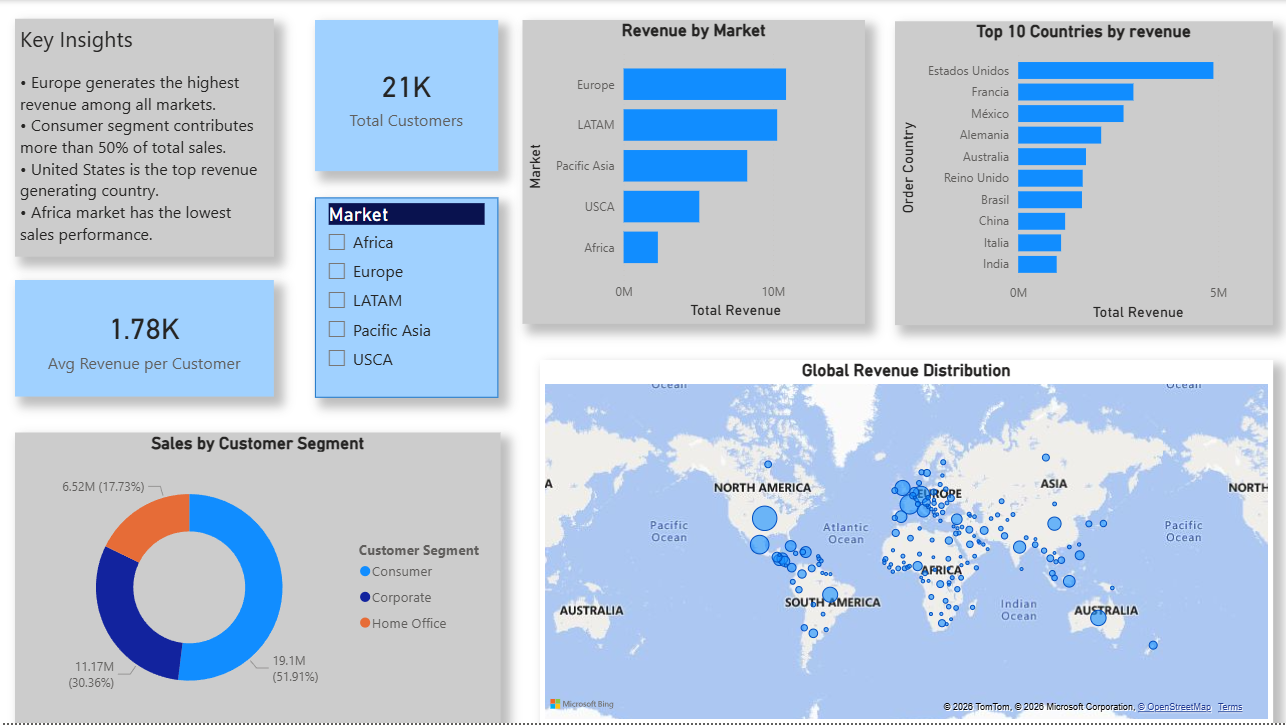

The dashboard page shown, as its layout file describes it:
{"tool":"powerbi","page":{"name":"Customer & Market Insights","canvas":[1280,720],"ordinal":2},"visuals":[{"type":"map","title":"Global Revenue Distribution","fields":{"Category":["DataCoSupplyChainDataset.Order Country"],"Size":["DataCoSupplyChainDataset.Total Revenue"]},"box":[538,358.2,729.2,362.1],"z":0},{"type":"barChart","title":" Revenue by Market","fields":{"Category":["DataCoSupplyChainDataset.Market"],"Y":["DataCoSupplyChainDataset.Total Revenue"]},"box":[520,19.9,340.8,302.3],"z":1},{"type":"donutChart","title":"Sales by Customer Segment","fields":{"Category":["DataCoSupplyChainDataset.Customer Segment"],"Y":["DataCoSupplyChainDataset.Total Revenue"]},"box":[15.3,430.9,483.2,289.4],"z":2},{"type":"barChart","title":"Top 10 Countries by revenue","fields":{"Category":["DataCoSupplyChainDataset.Order Country"],"Y":["DataCoSupplyChainDataset.Total Revenue"]},"box":[890.7,21.1,375.7,302.3],"z":3},{"type":"card","fields":{"Values":["DataCoSupplyChainDataset.Total Customers"]},"box":[313.6,20.4,182.3,150.4],"z":4},{"type":"slicer","fields":{"Values":["DataCoSupplyChainDataset.Market"]},"box":[313.6,196.3,182.3,198.9],"z":5},{"type":"textbox","box":[15.3,19.1,257.5,237.1],"z":6},{"type":"card","fields":{"Values":["DataCoSupplyChainDataset.Avg Revenue per Customer"]},"box":[15.3,279.2,257.5,116],"z":7}]}

Visuals, with their boxes in screenshot pixels (x1, y1, x2, y2), scaled from the page's 1280x720 canvas onto the 1286x726 screenshot:
"Global Revenue Distribution" map: {"x1": 541, "y1": 361, "x2": 1273, "y2": 725}
" Revenue by Market" barChart: {"x1": 522, "y1": 20, "x2": 865, "y2": 325}
"Sales by Customer Segment" donutChart: {"x1": 15, "y1": 434, "x2": 501, "y2": 725}
"Top 10 Countries by revenue" barChart: {"x1": 895, "y1": 21, "x2": 1272, "y2": 326}
card - DataCoSupplyChainDataset.Total Customers: {"x1": 315, "y1": 21, "x2": 498, "y2": 172}
slicer - DataCoSupplyChainDataset.Market: {"x1": 315, "y1": 198, "x2": 498, "y2": 398}
textbox: {"x1": 15, "y1": 19, "x2": 274, "y2": 258}
card - DataCoSupplyChainDataset.Avg Revenue per Customer: {"x1": 15, "y1": 282, "x2": 274, "y2": 398}
